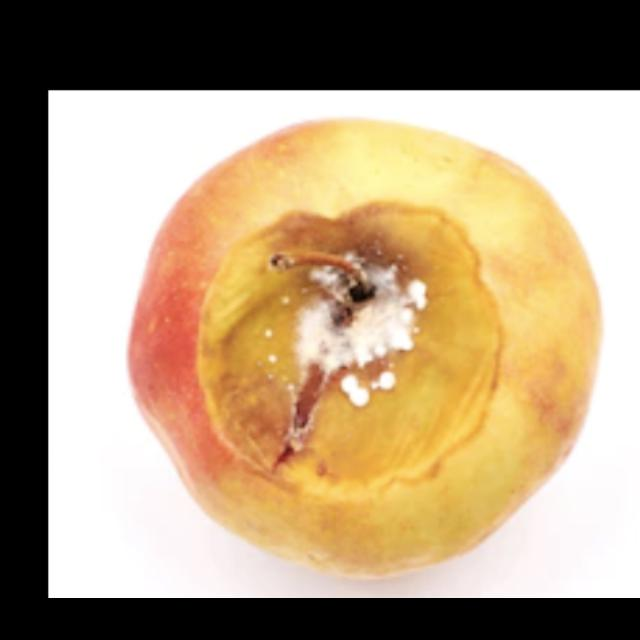Apel Tidak Segar: (139, 114, 596, 568)
